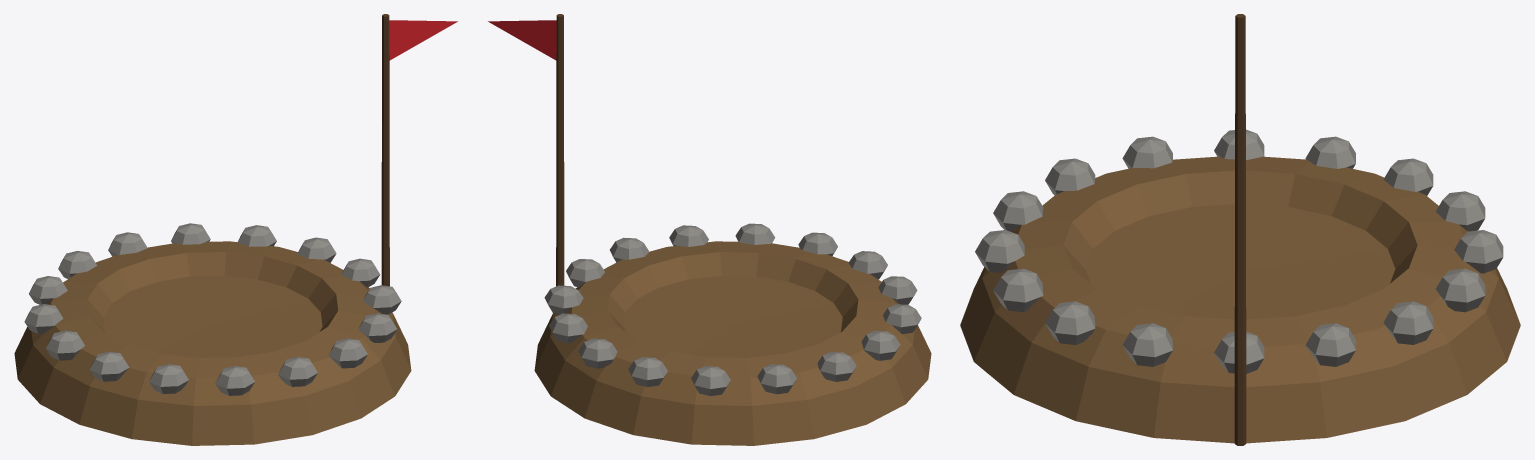
The model's file is KokBoru_Kazan.obj.
The picture shows the model from 3 angles, left to right: view 1: azimuth 30°, elevation 25°; view 2: azimuth 150°, elevation 25°; view 3: azimuth 270°, elevation 25°; orthographic projection. The views are drawn at different scales.
Parts seen in each view (by area): view 1: KokBoru_Kazan; view 2: KokBoru_Kazan; view 3: KokBoru_Kazan.
Boxes of the visible parts, <box> form: KokBoru_Kazan: <box>14,14,457,445</box>; KokBoru_Kazan: <box>488,14,931,445</box>; KokBoru_Kazan: <box>960,14,1520,445</box>.
Bounding box in the file's own units: 4.6 × 3.2 × 3.8.
